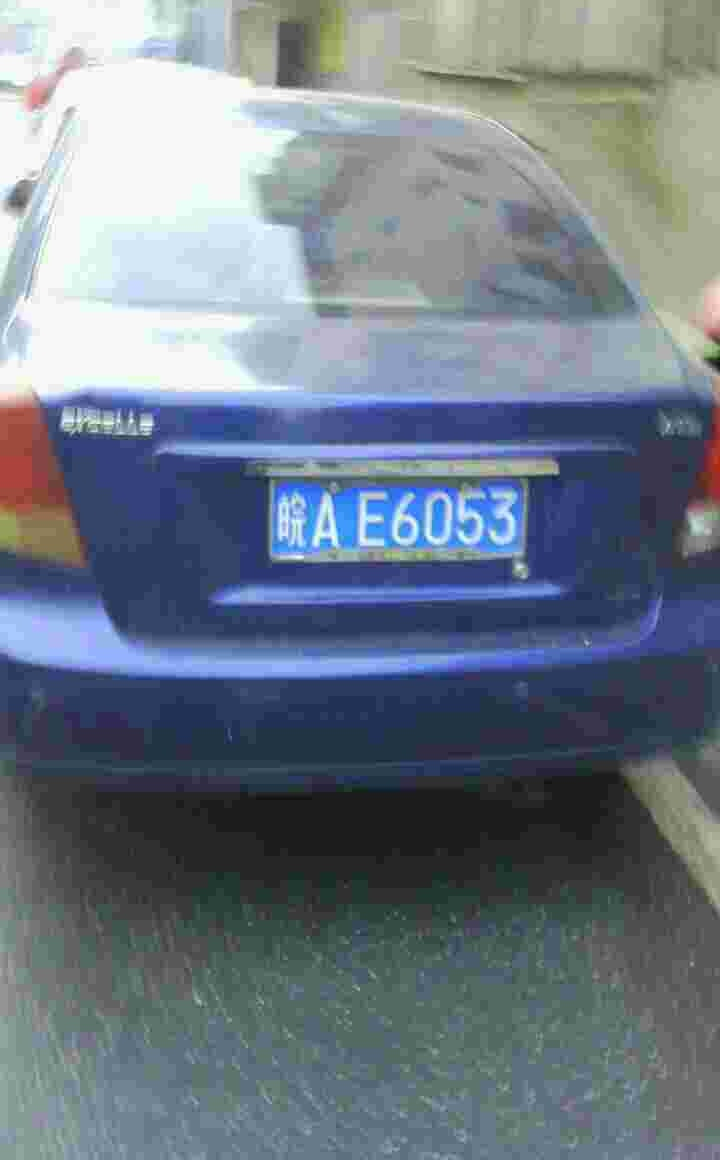plate: (273, 475, 531, 563)
